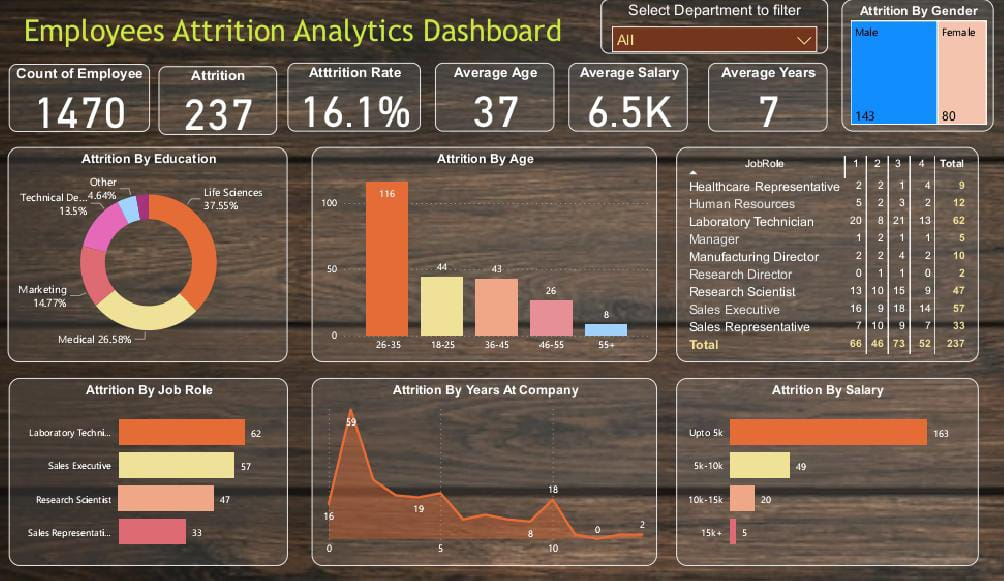

Layout of this report page (visuals, bound fields, positions):
{"tool":"powerbi","page":{"name":"Page 1","canvas":[1280,720],"ordinal":0},"visuals":[{"type":"card","title":"Count of Employee","fields":{"Values":["CountNonNull(HR_Analytics.EmpID)"]},"box":[32.6,80.8,175.7,85],"z":0},{"type":"card","title":"Attrition","fields":{"Values":["Sum(HR_Analytics.AttritionCount)"]},"box":[219.8,83.9,147.6,85.6],"z":1000},{"type":"card","title":"Atttrition Rate","fields":{"Values":["HR_Analytics.AttritionRate"]},"box":[380.8,80.5,166.1,85.6],"z":2000},{"type":"card","title":"Average Age","fields":{"Values":["Avg(HR_Analytics.Age)"]},"box":[565.3,80.5,149.3,85.6],"z":3000},{"type":"card","title":"Average Salary","fields":{"Values":["Avg(HR_Analytics.MonthlyIncome)"]},"box":[733.1,80.5,149.3,85.6],"z":4000},{"type":"card","title":"Average Years","fields":{"Values":["Avg(HR_Analytics.YearsAtCompany)"]},"box":[907.6,80.5,149.3,85.6],"z":5000},{"type":"donutChart","title":"Attrition By Education","fields":{"Category":["HR_Analytics.EducationField"],"Y":["Sum(HR_Analytics.AttritionCount)"]},"box":[31.2,185.7,350.1,269.3],"z":6000},{"type":"columnChart","title":"Attrition By Age","fields":{"Category":["HR_Analytics.AgeGroup"],"Y":["Sum(HR_Analytics.AttritionCount)"]},"box":[411,185.7,432.3,269.3],"z":7000},{"type":"pivotTable","fields":{"Rows":["HR_Analytics.JobRole"],"Columns":["HR_Analytics.JobSatisfaction"],"Values":["Sum(HR_Analytics.AttritionCount)"]},"box":[867.4,185.7,378.4,269.3],"z":8000},{"type":"barChart","title":"Attrition By Salary","fields":{"Category":["HR_Analytics.SalarySlab"],"Y":["Sum(HR_Analytics.AttritionCount)"]},"box":[867.4,474.8,378.4,235.3],"z":9000},{"type":"barChart","title":"Attrition By Job Role","fields":{"Y":["Sum(HR_Analytics.AttritionCount)"],"Category":["HR_Analytics.JobRole"]},"box":[32.6,474.8,348.7,235.3],"z":10000},{"type":"areaChart","title":"Attrition By Years At Company","fields":{"Category":["HR_Analytics.YearsAtCompany"],"Y":["Sum(HR_Analytics.AttritionCount)"]},"box":[411,474.8,432.3,235.3],"z":11000},{"type":"treemap","title":"Attrition By Gender","fields":{"Group":["HR_Analytics.Gender"],"Values":["Sum(HR_Analytics.AttritionCount)"]},"box":[1073.7,0,189.6,166.1],"z":12000},{"type":"slicer","title":"Select Department to filter","fields":{"Values":["HR_Analytics.Department"]},"box":[773.4,0,283.5,68.8],"z":13000},{"type":"textbox","box":[45.3,13.4,713,55.4],"z":14000}]}

Visuals, with their boxes in screenshot pixels (x1, y1, x2, y2), scaled from the page's 1280x720 canvas onto the 1004x581 screenshot:
"Count of Employee" card: (26,65,163,134)
"Attrition" card: (172,68,288,137)
"Atttrition Rate" card: (299,65,429,134)
"Average Age" card: (443,65,561,134)
"Average Salary" card: (575,65,692,134)
"Average Years" card: (712,65,829,134)
"Attrition By Education" donutChart: (24,150,299,367)
"Attrition By Age" columnChart: (322,150,661,367)
pivotTable - HR_Analytics.JobRole x HR_Analytics.JobSatisfaction: (680,150,977,367)
"Attrition By Salary" barChart: (680,383,977,573)
"Attrition By Job Role" barChart: (26,383,299,573)
"Attrition By Years At Company" areaChart: (322,383,661,573)
"Attrition By Gender" treemap: (842,0,991,134)
"Select Department to filter" slicer: (607,0,829,56)
textbox: (36,11,595,56)
